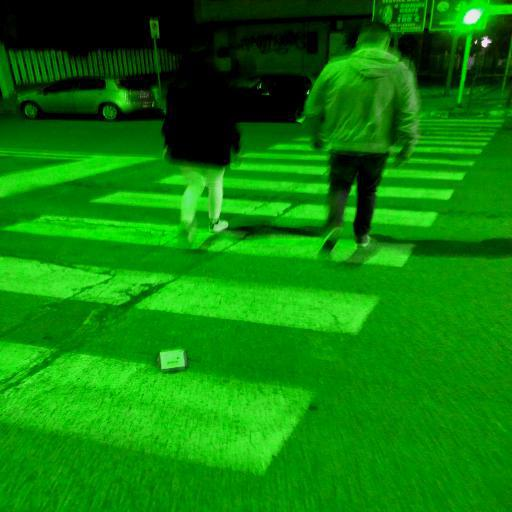crosswalk: (84, 170, 461, 234)
